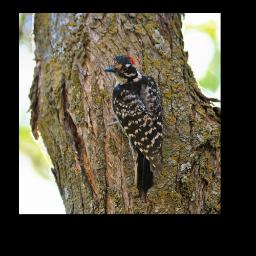Woodpecker: (104, 53, 159, 200)
